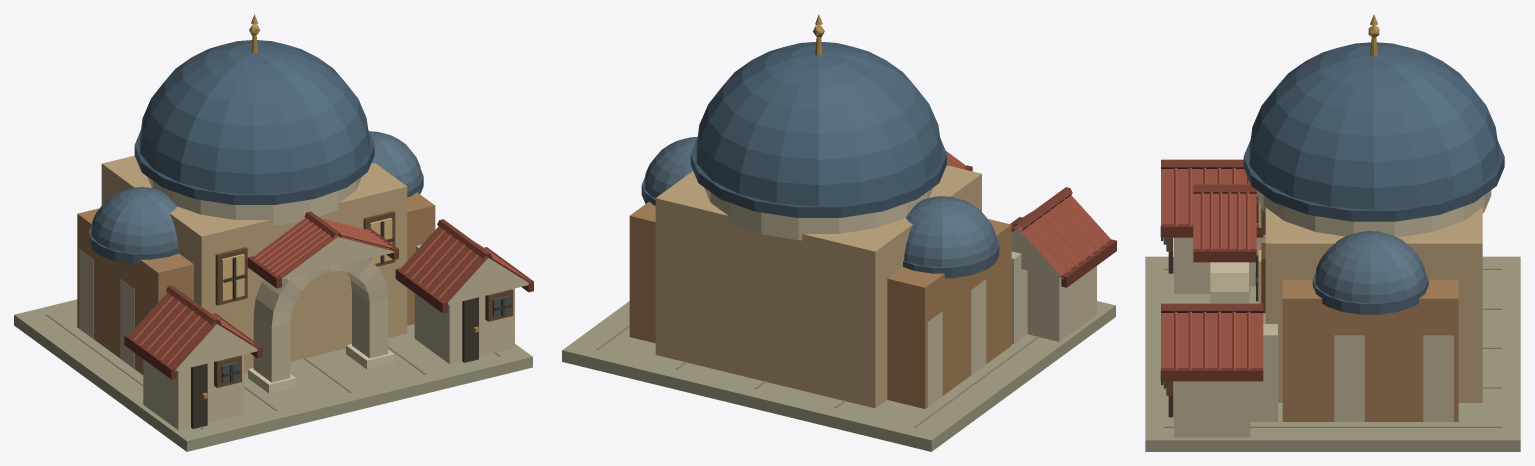
The picture shows the model from 3 angles, left to right: view 1: azimuth 30°, elevation 25°; view 2: azimuth 150°, elevation 25°; view 3: azimuth 270°, elevation 25°; orthographic projection. The views are drawn at different scales.
Parts seen in each view (by area): view 1: S22_君士坦丁堡 · 穹顶城丘; view 2: S22_君士坦丁堡 · 穹顶城丘; view 3: S22_君士坦丁堡 · 穹顶城丘.
Boxes of the visible parts, x1,y1,x2,y2 form: S22_君士坦丁堡 · 穹顶城丘: (14,14,533,451); S22_君士坦丁堡 · 穹顶城丘: (562,14,1116,451); S22_君士坦丁堡 · 穹顶城丘: (1145,14,1520,451).
Bounding box in the file's own units: 3.88 × 3.26 × 3.2.
